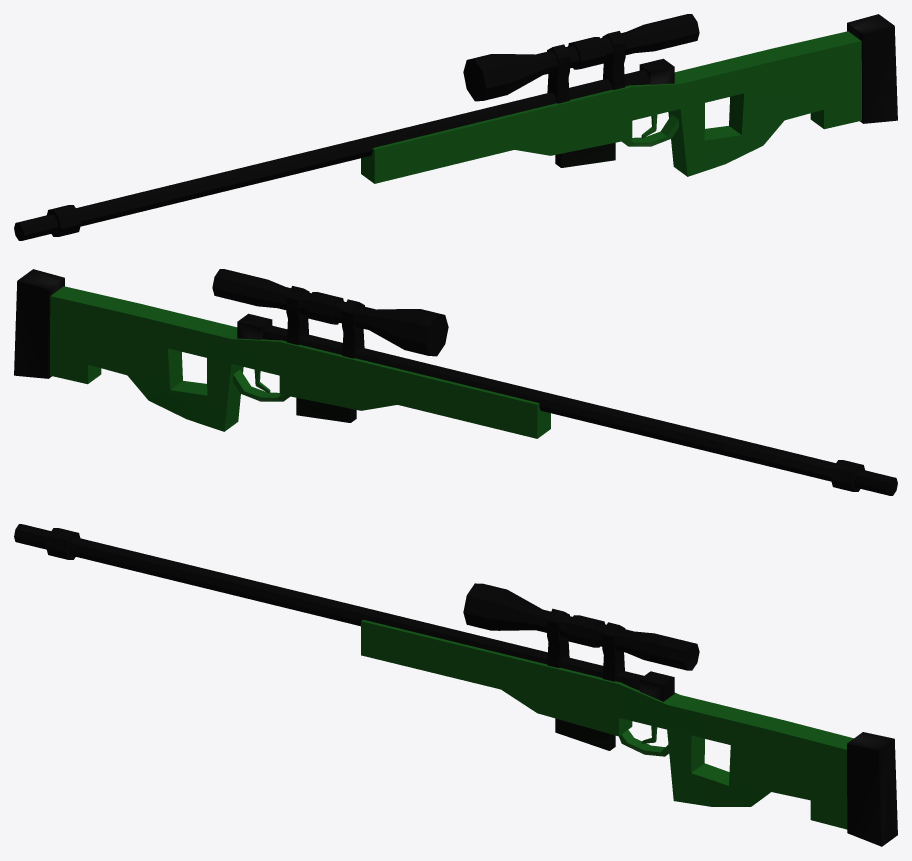
The model's file is sniper.gltf.
3 renders of one model, top to bottom at view 1: azimuth 30°, elevation 25°; view 2: azimuth 150°, elevation 25°; view 3: azimuth 330°, elevation 25°, orthographic.
Parts seen in each view (by area): view 1: AWP; view 2: AWP; view 3: AWP.
Boxes of the visible parts, x1=… form: AWP: x1=14, y1=14, x2=897, y2=240; AWP: x1=14, y1=269, x2=897, y2=495; AWP: x1=14, y1=524, x2=897, y2=846.
Bounding box in the file's own units: 4.89 × 0.8695 × 0.2219.
